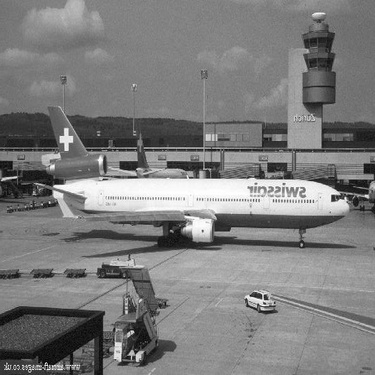airplane: (32, 105, 358, 248), (129, 133, 194, 177)
car: (238, 288, 282, 317)
